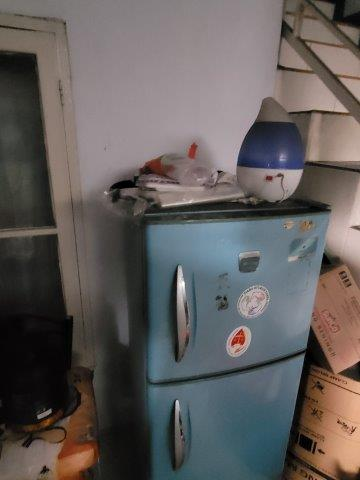plastik: (121, 157, 245, 209)
